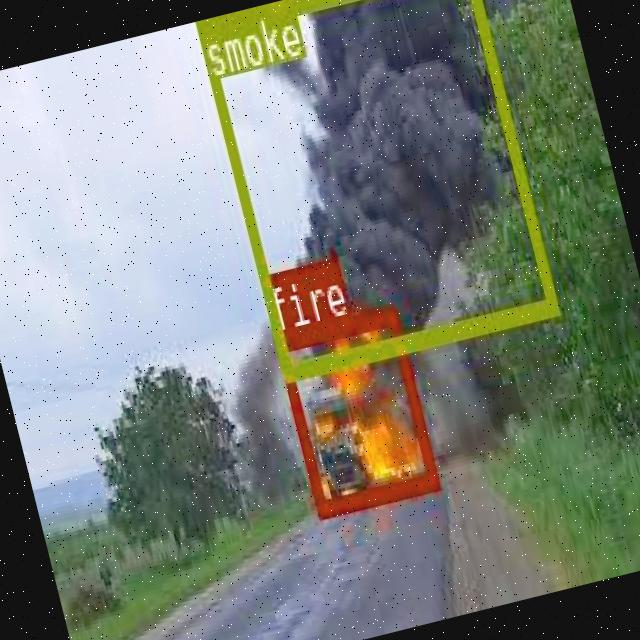fire: (272, 304, 437, 516)
smoke: (194, 0, 555, 380)
